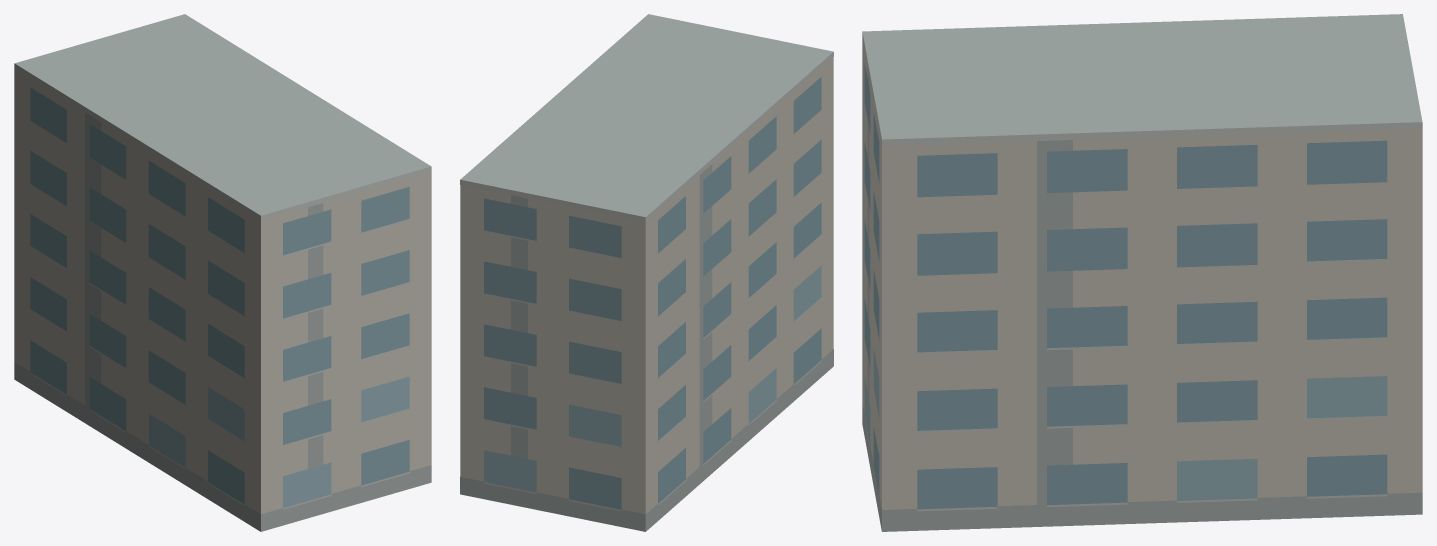
Rendered from survey-upis-32619971.glb.
3 renders of one model, left to right at view 1: azimuth 30°, elevation 25°; view 2: azimuth 150°, elevation 25°; view 3: azimuth 270°, elevation 25°, orthographic. The views are drawn at different scales.
Parts seen in each view (by area): view 1: survey-upis-32619971.tmp; view 2: survey-upis-32619971.tmp; view 3: survey-upis-32619971.tmp.
Boxes of the visible parts, left/top/right/bottom form: survey-upis-32619971.tmp: left=14, top=14, right=431, bottom=531; survey-upis-32619971.tmp: left=460, top=14, right=833, bottom=531; survey-upis-32619971.tmp: left=862, top=14, right=1422, bottom=531.
Bounding box in the file's own units: 9.95 × 14.5 × 18.77.
